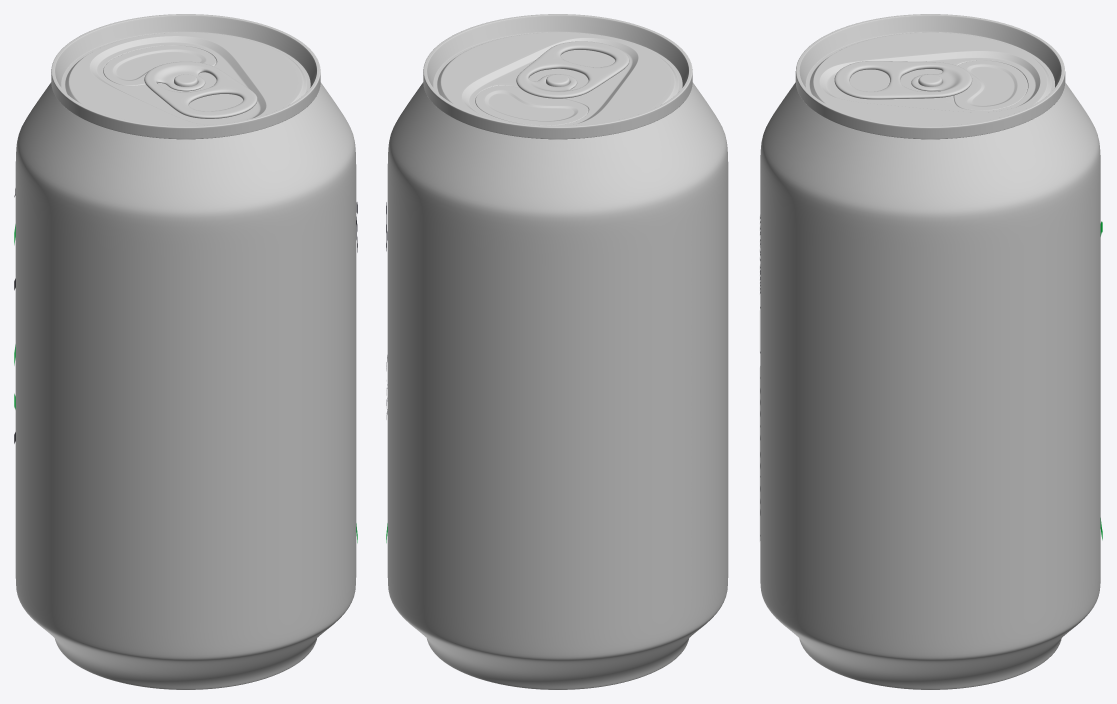
File: hipa_comp.glb
3 views of the same model, side by side, from view 1: azimuth 30°, elevation 25°; view 2: azimuth 150°, elevation 25°; view 3: azimuth 270°, elevation 25° (orthographic).
Visible parts, largest first — view 1: Círculo.001, Circle.002; view 2: Círculo.001, Circle.002; view 3: Círculo.001, Circle.002.
Part boxes in pixels (bbox=[...]): Círculo.001: bbox=[15, 14, 356, 689]; Circle.002: bbox=[144, 61, 257, 118]; Círculo.001: bbox=[387, 14, 728, 689]; Circle.002: bbox=[516, 41, 629, 98]; Círculo.001: bbox=[760, 14, 1100, 689]; Circle.002: bbox=[834, 61, 972, 99].
Size of the model in its own units: 1.18 by 2.14 by 1.18.
2 materials, 1 textured.
